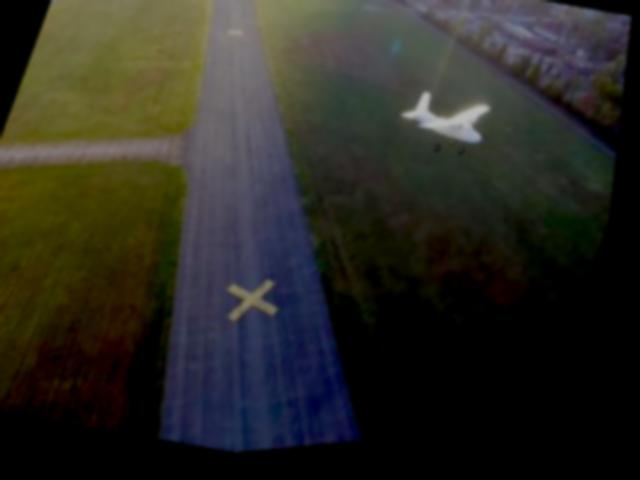uav: (397, 87, 502, 162)
